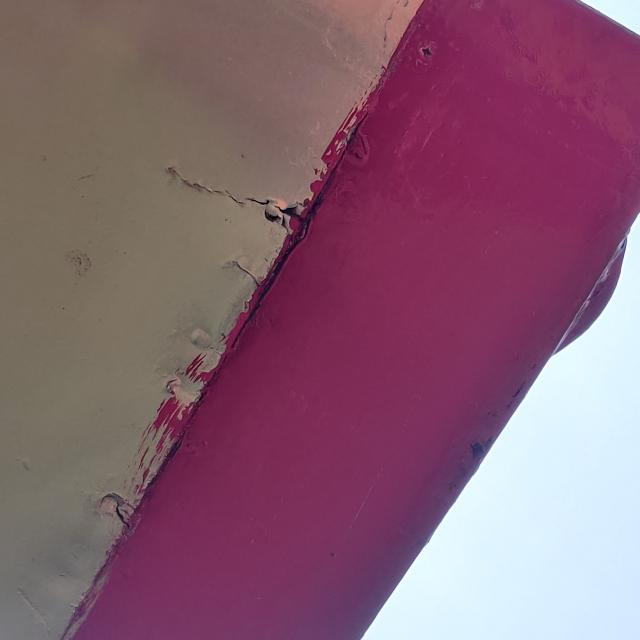crack: (159, 159, 311, 239), (227, 252, 268, 292), (108, 495, 142, 536)
